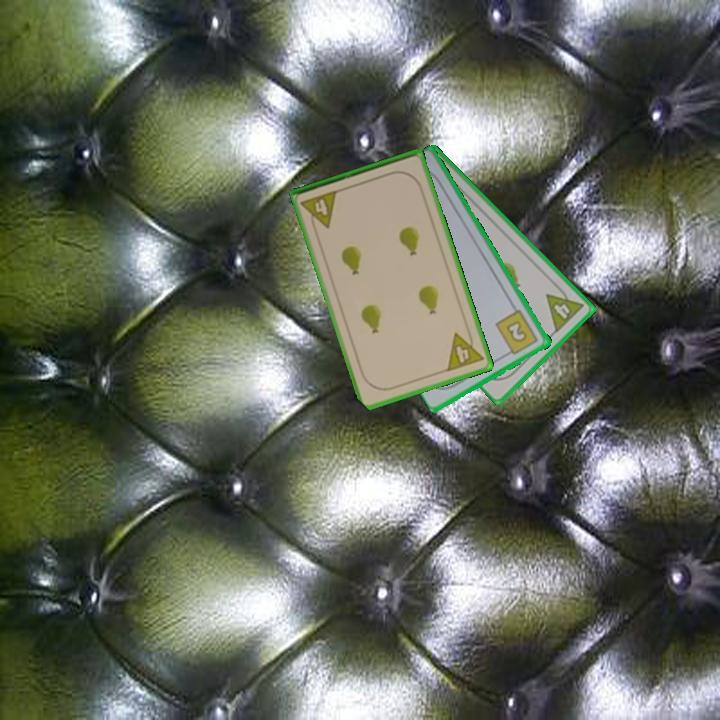2b: (492, 306, 541, 359)
4p: (543, 281, 587, 335), (443, 325, 486, 374), (297, 187, 341, 234)
